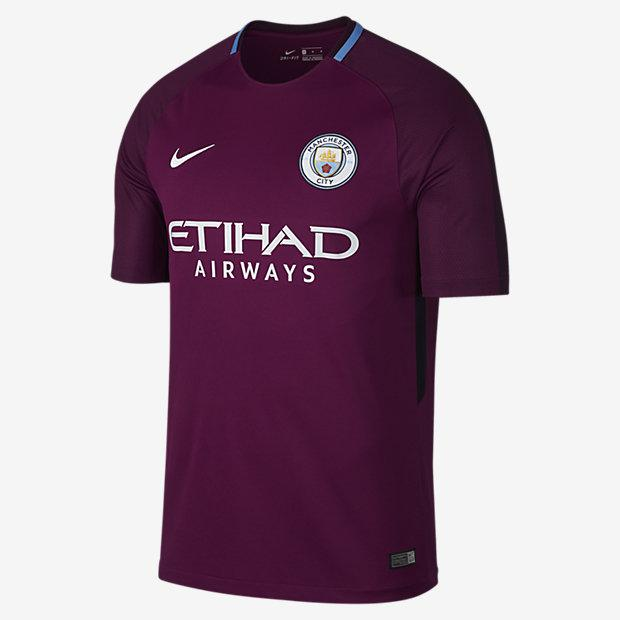teeshirt: (91, 10, 525, 608)
